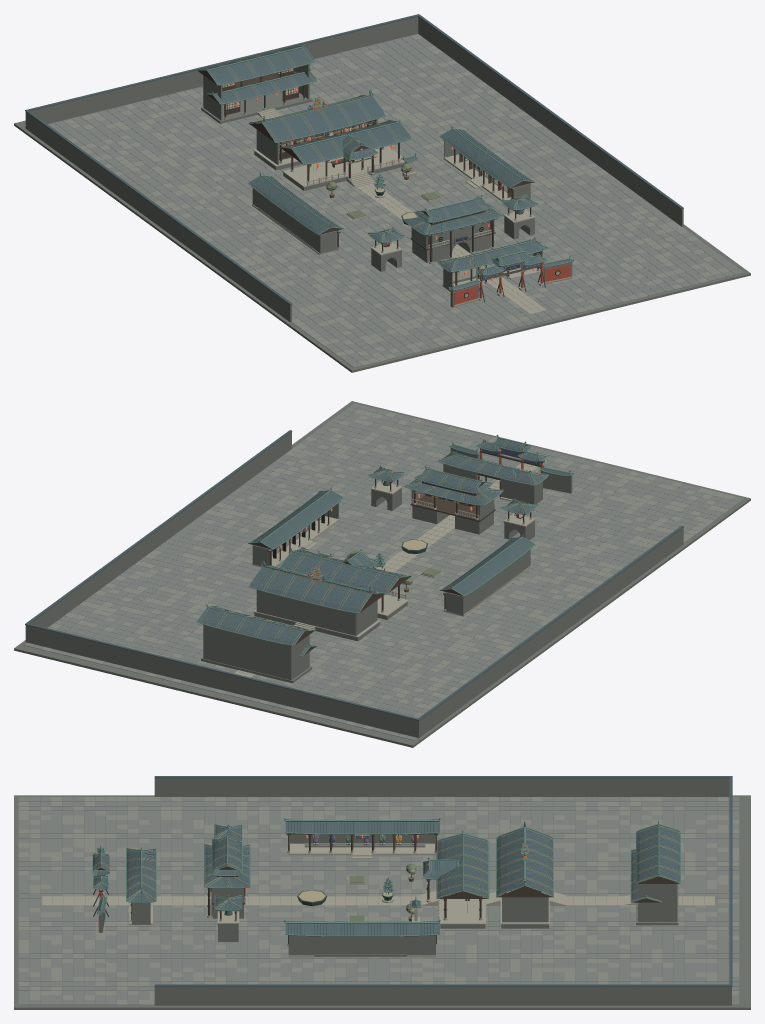
File: temple.gltf
3 renders of one model, top to bottom at view 1: azimuth 30°, elevation 25°; view 2: azimuth 150°, elevation 25°; view 3: azimuth 270°, elevation 25°, orthographic. The views are drawn at different scales.
Visible parts, largest first — view 1: Ground_and_street, Qingong_two_storey, Xiandian_open_hall, Chenghuang_main_hall, Entry_theatre, West_land_temple, East_six_offices, Entry_paifang, Entry_shanmen, Entry_drum_pavilion, Entry_bell_pavilion, Main_courtyard_furnishings; view 2: Ground_and_street, Chenghuang_main_hall, Qingong_two_storey, Entry_theatre, Xiandian_open_hall, West_land_temple, East_six_offices, Entry_shanmen, Entry_paifang, Entry_bell_pavilion, Entry_drum_pavilion, Main_courtyard_furnishings; view 3: Ground_and_street, Chenghuang_main_hall, East_six_offices, Xiandian_open_hall, West_land_temple, Qingong_two_storey, Entry_theatre, Entry_shanmen, Main_courtyard_furnishings, Entry_bell_pavilion, Entry_paifang, Aux_Land_SevenPhotographedFigures.
Boxes of the visible parts, x1,y1,x2,y2 form: Ground_and_street: [14, 14, 750, 372]; Qingong_two_storey: [197, 44, 317, 123]; Xiandian_open_hall: [279, 119, 411, 190]; Chenghuang_main_hall: [248, 93, 385, 170]; Entry_theatre: [403, 195, 503, 264]; West_land_temple: [248, 172, 343, 254]; East_six_offices: [439, 126, 535, 200]; Entry_paifang: [449, 248, 574, 307]; Entry_shanmen: [437, 237, 548, 291]; Entry_drum_pavilion: [368, 226, 405, 271]; Entry_bell_pavilion: [501, 194, 538, 239]; Main_courtyard_furnishings: [326, 153, 441, 225]; Ground_and_street: [14, 401, 750, 747]; Chenghuang_main_hall: [249, 563, 385, 641]; Qingong_two_storey: [197, 604, 316, 683]; Entry_theatre: [403, 465, 503, 534]; Xiandian_open_hall: [279, 548, 411, 619]; West_land_temple: [439, 534, 535, 616]; East_six_offices: [248, 487, 343, 566]; Entry_shanmen: [437, 450, 548, 503]; Entry_paifang: [449, 434, 574, 493]; Entry_bell_pavilion: [367, 465, 405, 510]; Entry_drum_pavilion: [501, 498, 538, 540]; Main_courtyard_furnishings: [317, 539, 441, 592]; Ground_and_street: [14, 776, 750, 1009]; Chenghuang_main_hall: [486, 827, 566, 928]; East_six_offices: [284, 920, 440, 957]; Xiandian_open_hall: [420, 830, 489, 928]; West_land_temple: [284, 818, 440, 858]; Qingong_two_storey: [624, 821, 680, 925]; Entry_theatre: [204, 833, 250, 918]; Entry_shanmen: [126, 847, 156, 925]; Main_courtyard_furnishings: [297, 864, 421, 921]; Entry_bell_pavilion: [214, 895, 242, 941]; Entry_paifang: [92, 845, 109, 932]; Aux_Land_SevenPhotographedFigures: [304, 834, 425, 847].
Bounding box in the file's own units: 75 × 9.99 × 110.
